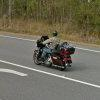Motorcycle: (24, 30, 78, 78)
